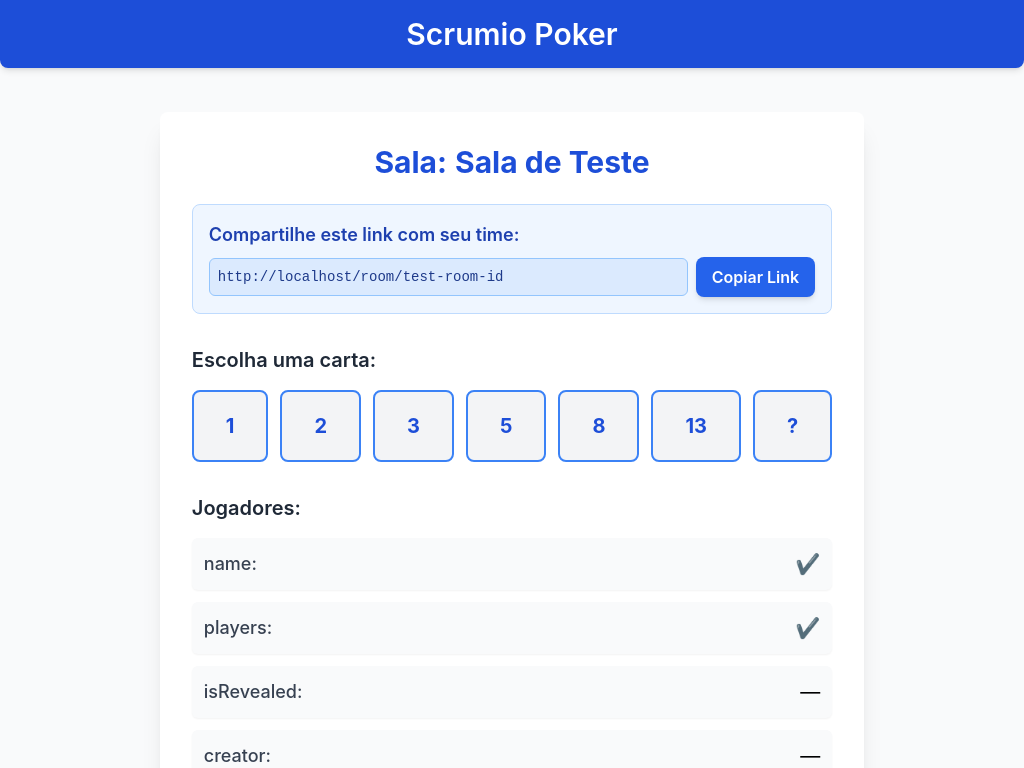
Room Component › should copy room link to clipboard
This screenshot has width=1024, height=768.
Click the button "Copiar Link". click: (756, 277)
box: top-left (696, 257), bottom-right (815, 297)
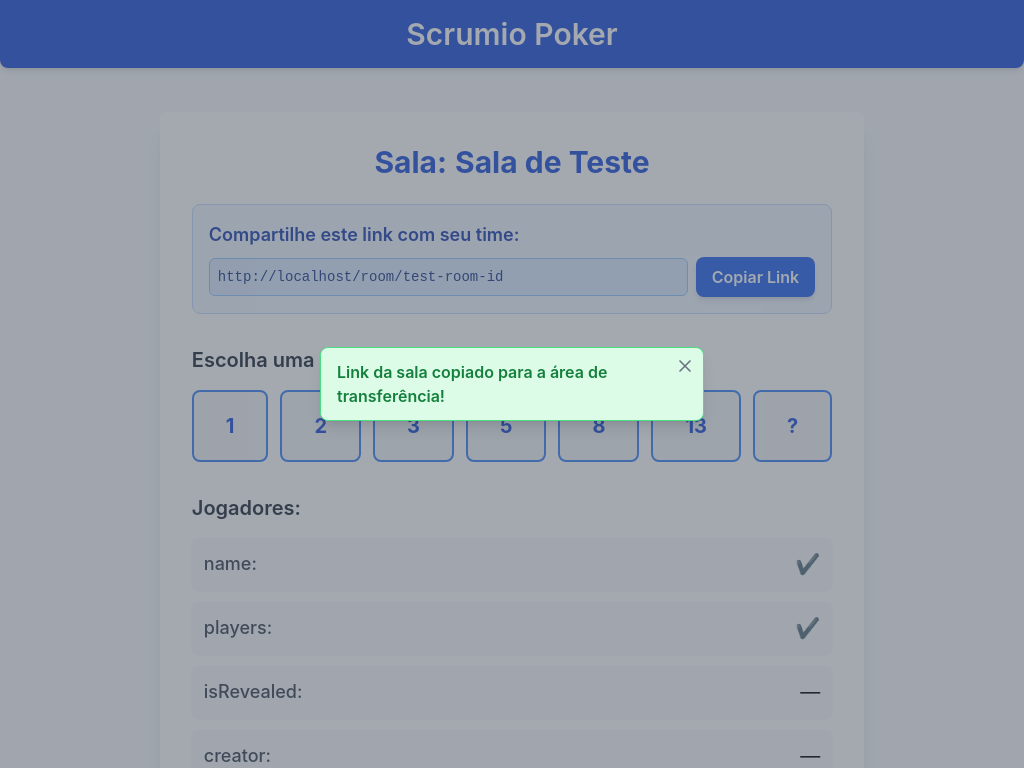
Result: the text "Link da sala copiado para a área de transferência!" is shown at top-left (337, 362), bottom-right (607, 406)
